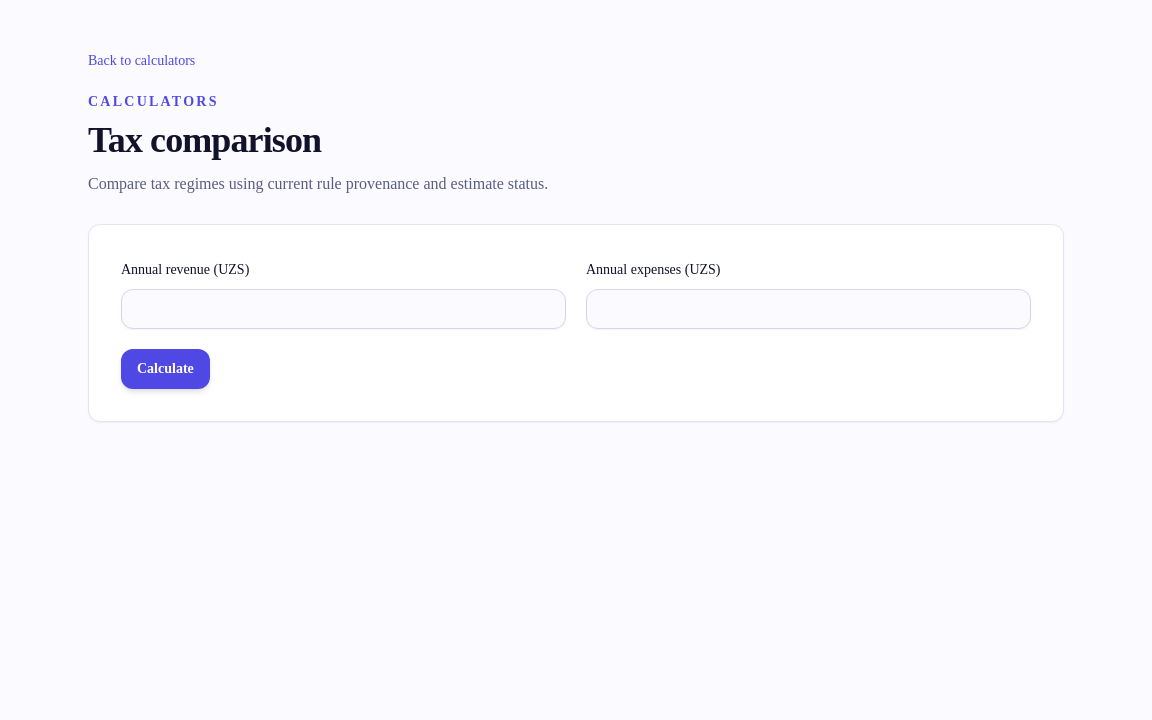
Test: calculator workspace › marks tax amounts as estimates when rules have not been verified
Type "100000" into the number field labelled "Annual revenue (UZS)" at (344, 309), box [121,289,566,329]
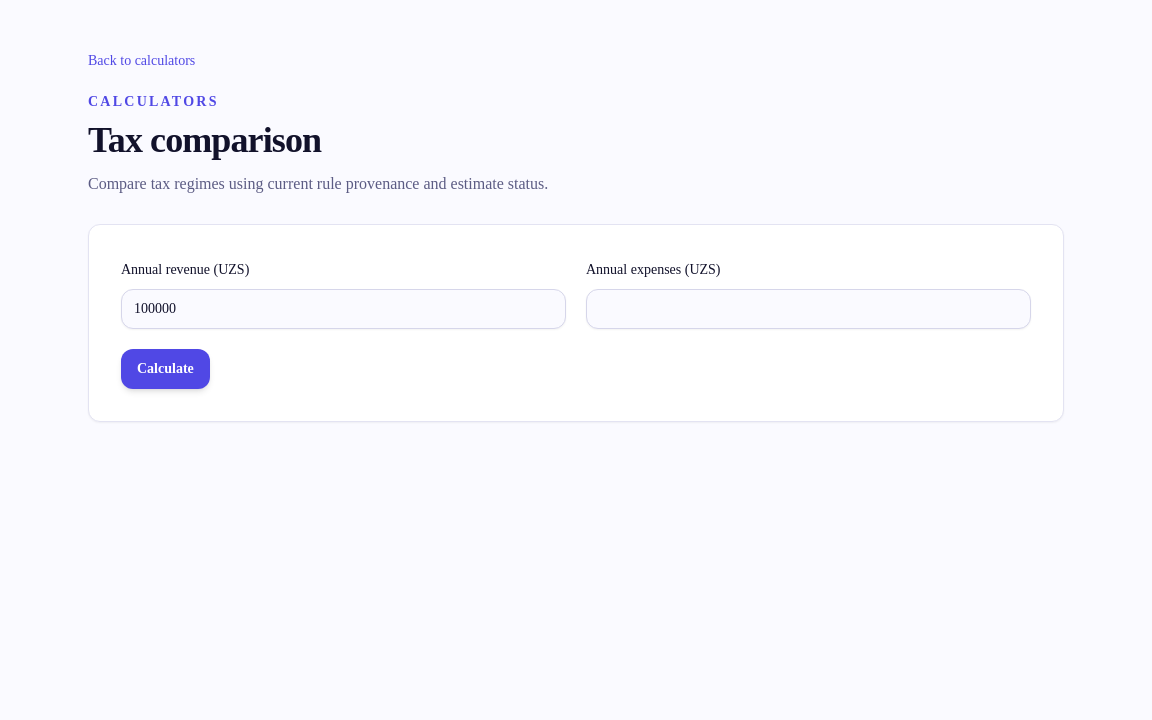
Type "50000" into the number field labelled "Annual expenses (UZS)" at (808, 309), box [586,289,1031,329]
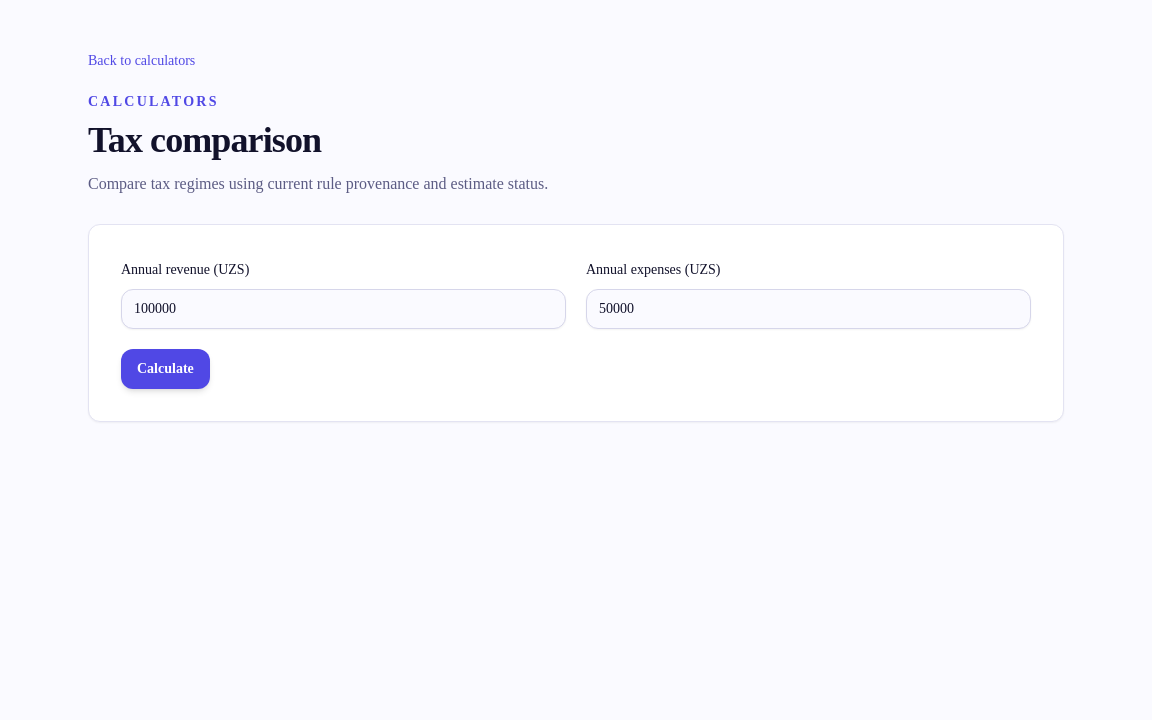
Click the button "Calculate" at (165, 369), box [121,349,210,389]
(page scrolled)
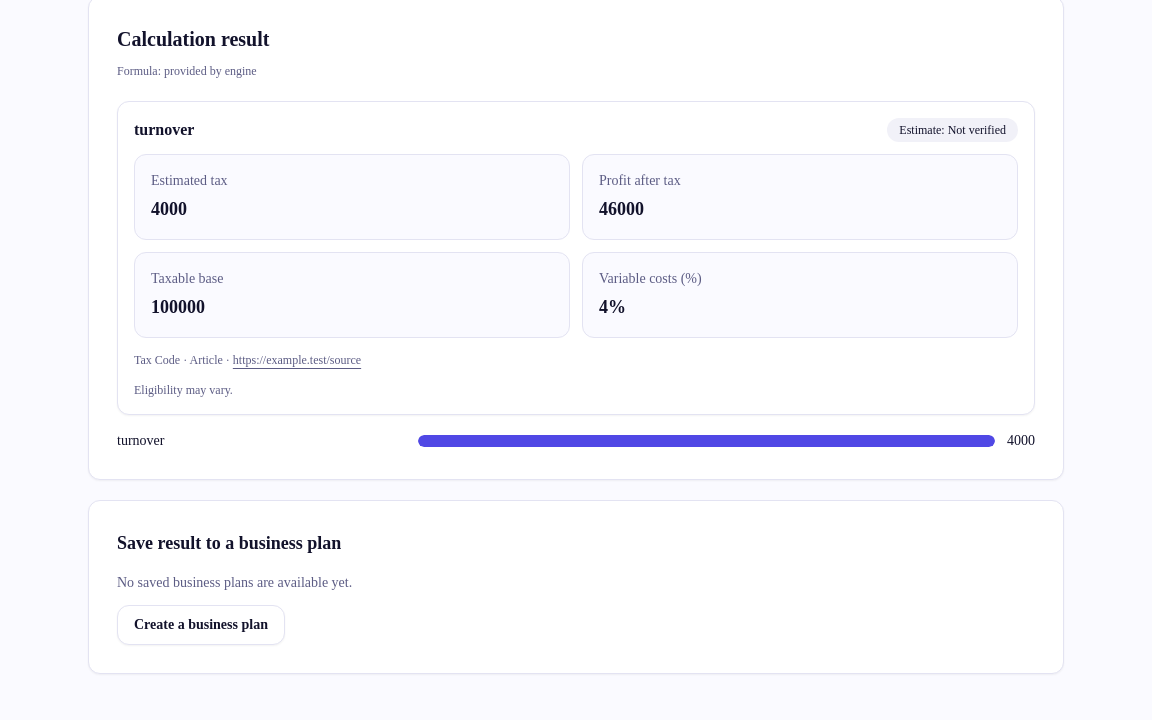
Now the text "Estimate: Not verified" is shown, box [887,118,1018,142]
Now the link "https://example.test/source" is shown, box [233,353,361,367]
